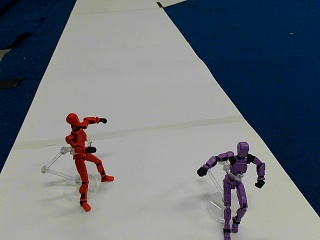pedestrian: (196, 142, 265, 234), (65, 111, 112, 209)
